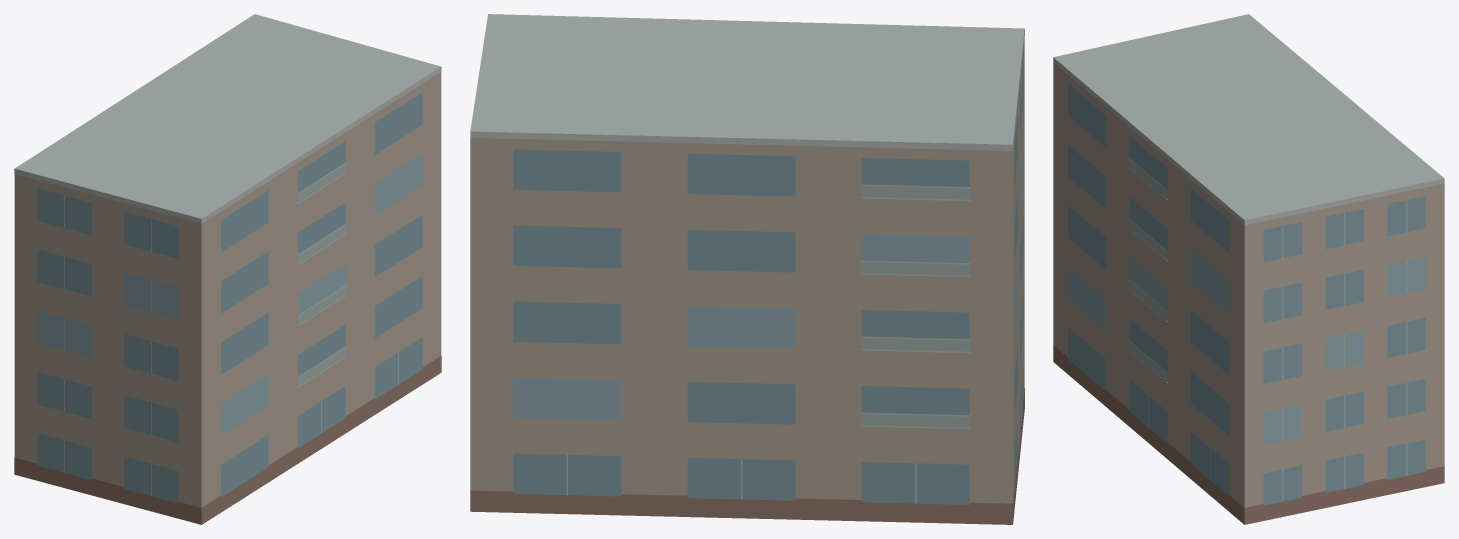
The model's file is survey-upis-32772878.glb.
The picture shows the model from 3 angles, left to right: view 1: azimuth 30°, elevation 25°; view 2: azimuth 150°, elevation 25°; view 3: azimuth 270°, elevation 25°; orthographic projection. The views are drawn at different scales.
Parts seen in each view (by area): view 1: survey-upis-32772878.tmp; view 2: survey-upis-32772878.tmp; view 3: survey-upis-32772878.tmp.
Boxes of the visible parts, box(x1,y1,x2,y2) form: survey-upis-32772878.tmp: box(14, 14, 441, 524); survey-upis-32772878.tmp: box(470, 14, 1024, 524); survey-upis-32772878.tmp: box(1053, 14, 1444, 524).
Size of the model in its own units: 21.36 by 14.7 by 17.13.
